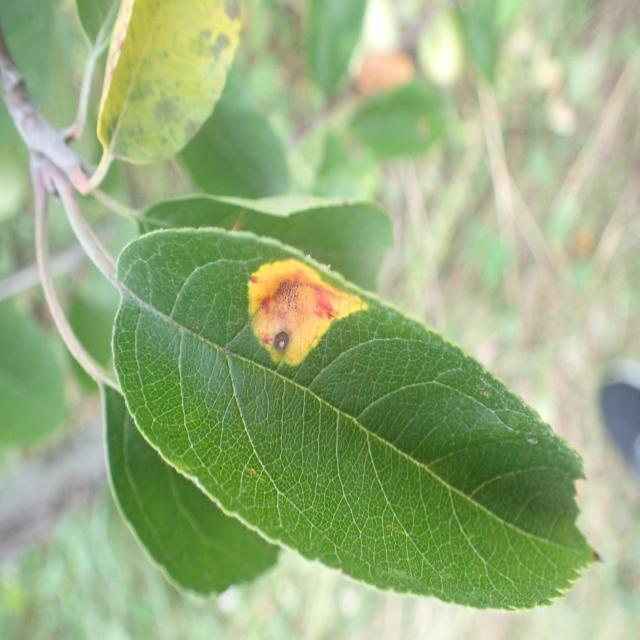Rust: (241, 226, 377, 408)
